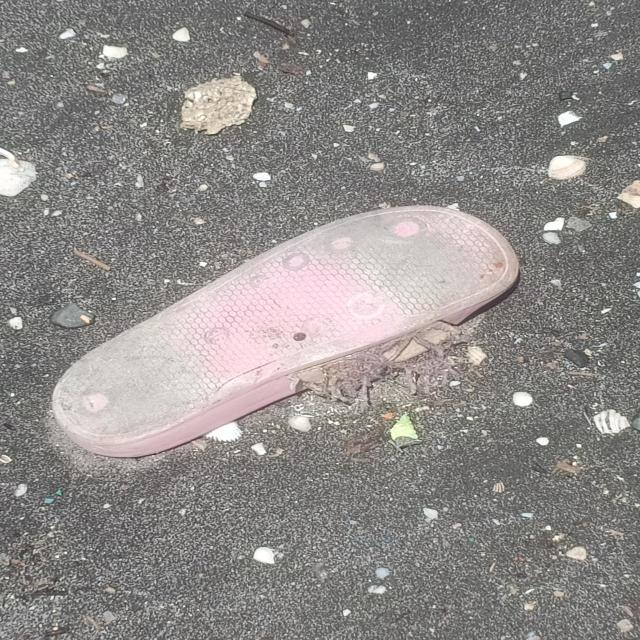rubber_waste: (55, 203, 519, 459)
